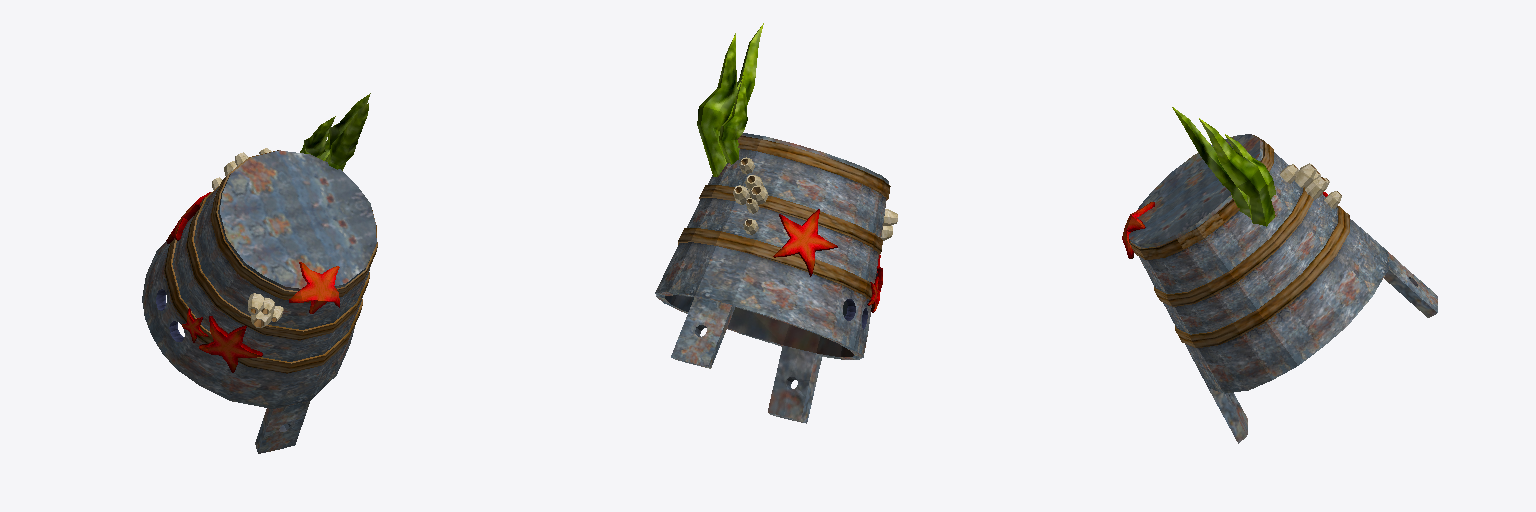
The picture shows the model from 3 angles: view 1: azimuth 30°, elevation 25°; view 2: azimuth 150°, elevation 25°; view 3: azimuth 270°, elevation 25°; orthographic projection.
Visible parts, largest first — view 1: default; view 2: default; view 3: default.
Boxes of the visible parts, x1=… form: default: x1=142, y1=93, x2=377, y2=453; default: x1=655, y1=23, x2=897, y2=423; default: x1=1122, y1=107, x2=1437, y2=443.
Bounding box in the file's own units: 2.28 × 4.1 × 3.28.
1 materials, 1 textured.